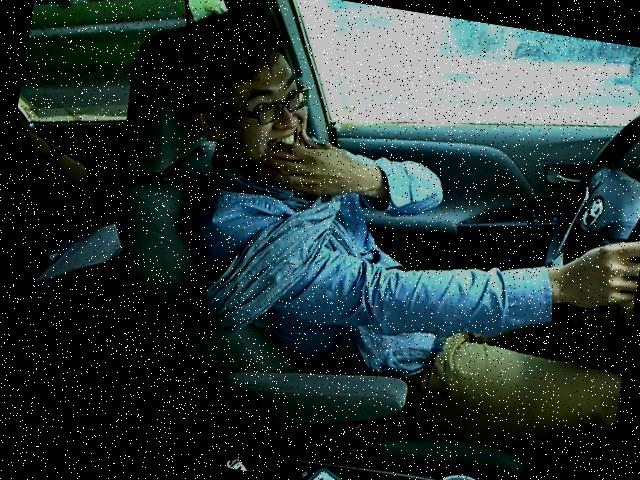c6 - Hair and Makeup: (112, 0, 639, 421)
